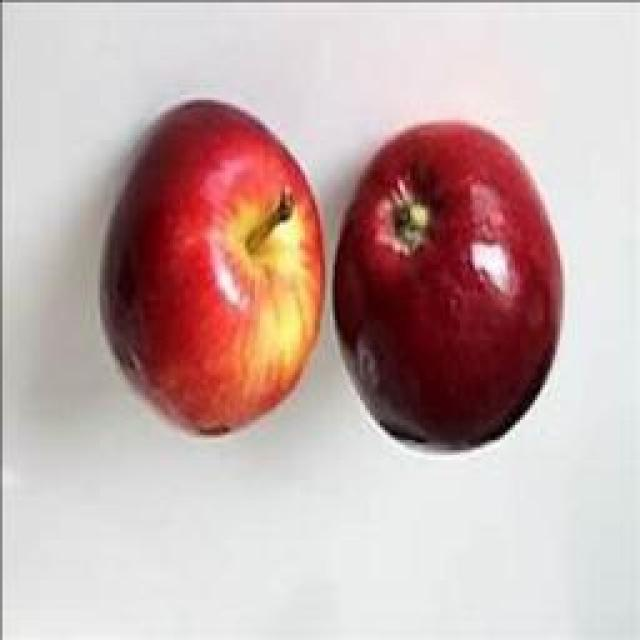Apple: (101, 100, 325, 434), (335, 122, 562, 447)
